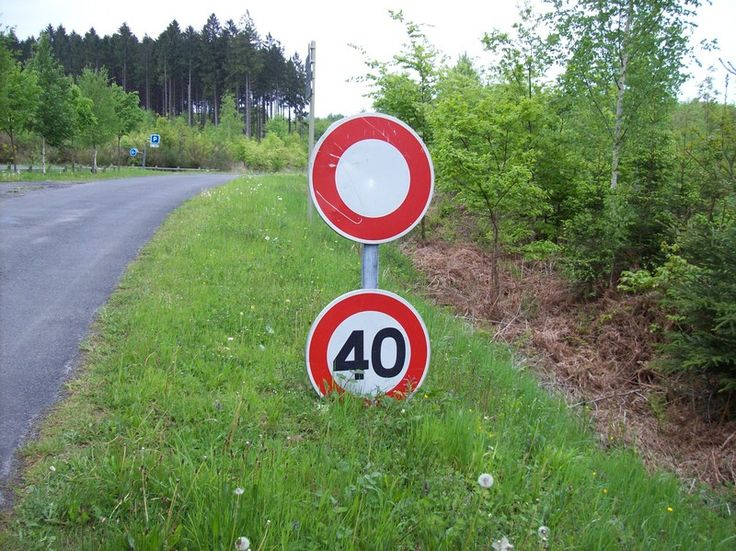Speed_limit_40km: (305, 290, 431, 411)
